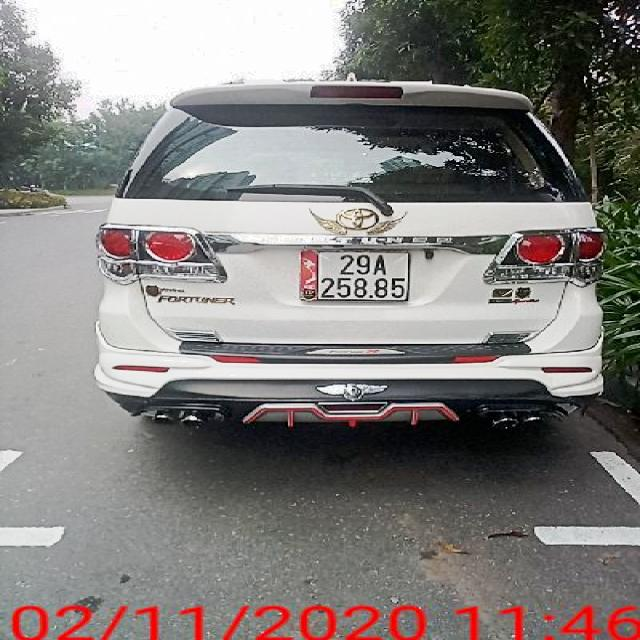license_plate: (300, 247, 409, 303)
